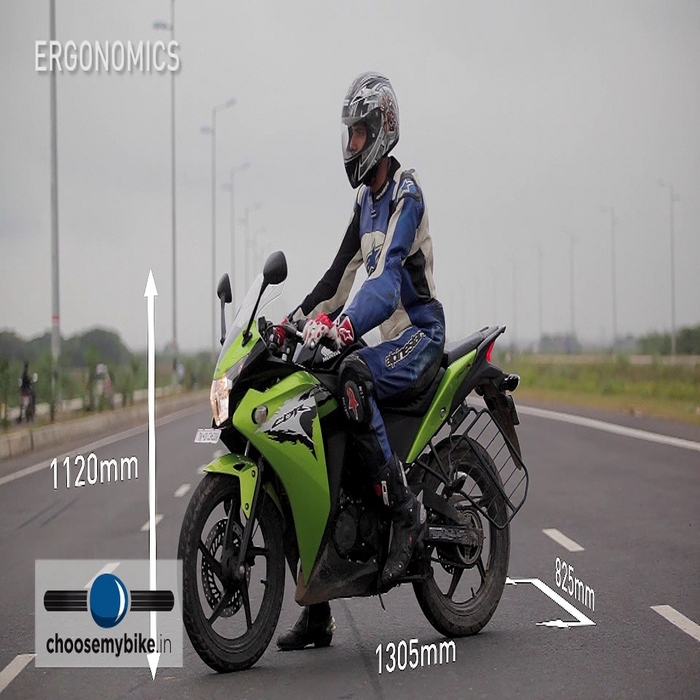h: (339, 66, 405, 196)
